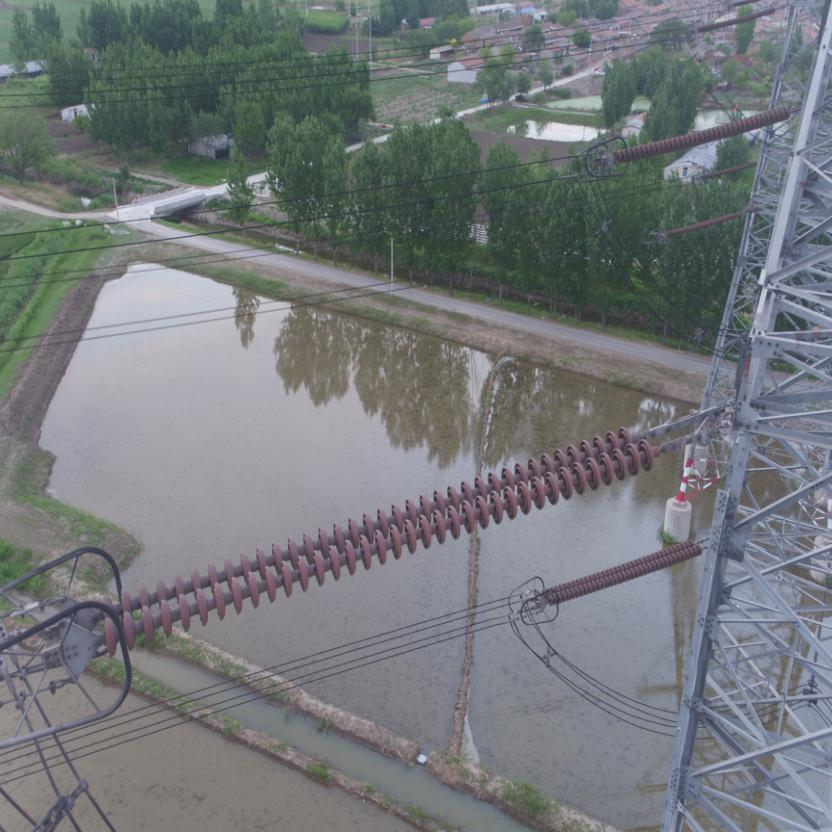insulator: (84, 420, 685, 665), (609, 99, 798, 167), (542, 533, 703, 608)
